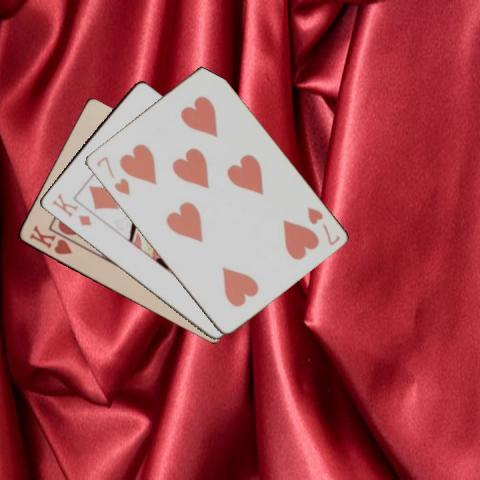7h: (93, 153, 131, 197), (304, 204, 341, 247)
Kd: (49, 190, 93, 228)
Kh: (25, 223, 74, 256)
